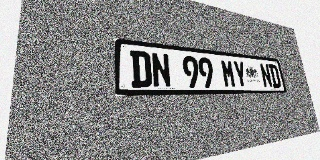9: (182, 55, 201, 88), (197, 57, 215, 88)
D: (130, 50, 152, 88), (268, 64, 282, 88)
M: (220, 59, 237, 88)
N: (151, 52, 172, 88), (259, 63, 273, 88)
Y: (232, 60, 248, 88)
